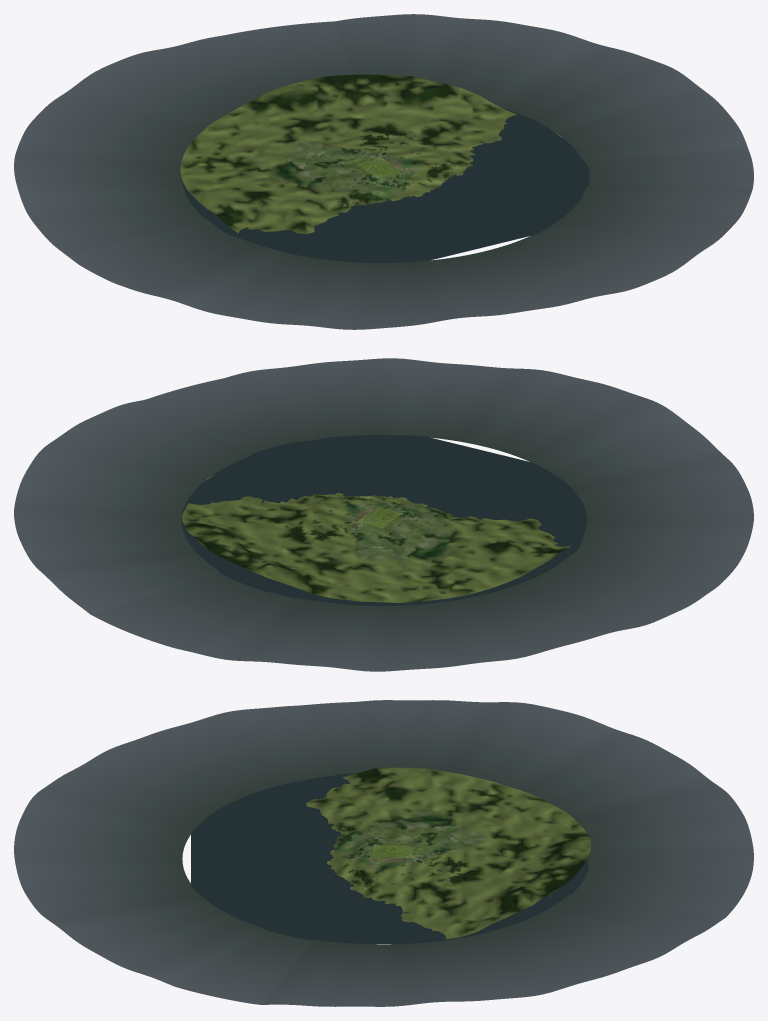
The model's file is byneset_south_09_plain.glb.
The picture shows the model from 3 angles, top to bottom: view 1: azimuth 30°, elevation 25°; view 2: azimuth 150°, elevation 25°; view 3: azimuth 270°, elevation 25°; orthographic projection.
Parts seen in each view (by area): view 1: FAR_Horizon, SURF_Far, WATER_Sea, FAR_Trees; view 2: FAR_Horizon, SURF_Far, WATER_Sea, FAR_Trees; view 3: FAR_Horizon, SURF_Far, WATER_Sea, FAR_Trees.
Part boxes in pixels (x1,y1,x2,y2): FAR_Horizon: [14, 14, 753, 329]; SURF_Far: [180, 74, 516, 233]; WATER_Sea: [182, 108, 589, 262]; FAR_Trees: [279, 126, 458, 207]; FAR_Horizon: [14, 358, 753, 671]; SURF_Far: [182, 493, 570, 602]; WATER_Sea: [182, 435, 587, 605]; FAR_Trees: [284, 496, 470, 558]; FAR_Horizon: [14, 700, 753, 1006]; SURF_Far: [306, 767, 591, 938]; WATER_Sea: [191, 773, 588, 943]; FAR_Trees: [335, 823, 472, 888].
Bounding box in the file's own units: 11200 × 288 × 11200.
32 materials, 18 textured.
